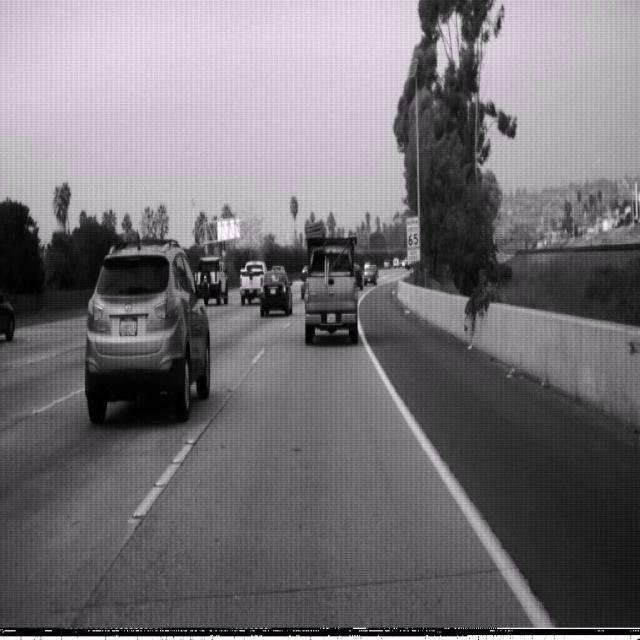speedLimit65: (405, 213, 421, 250)
